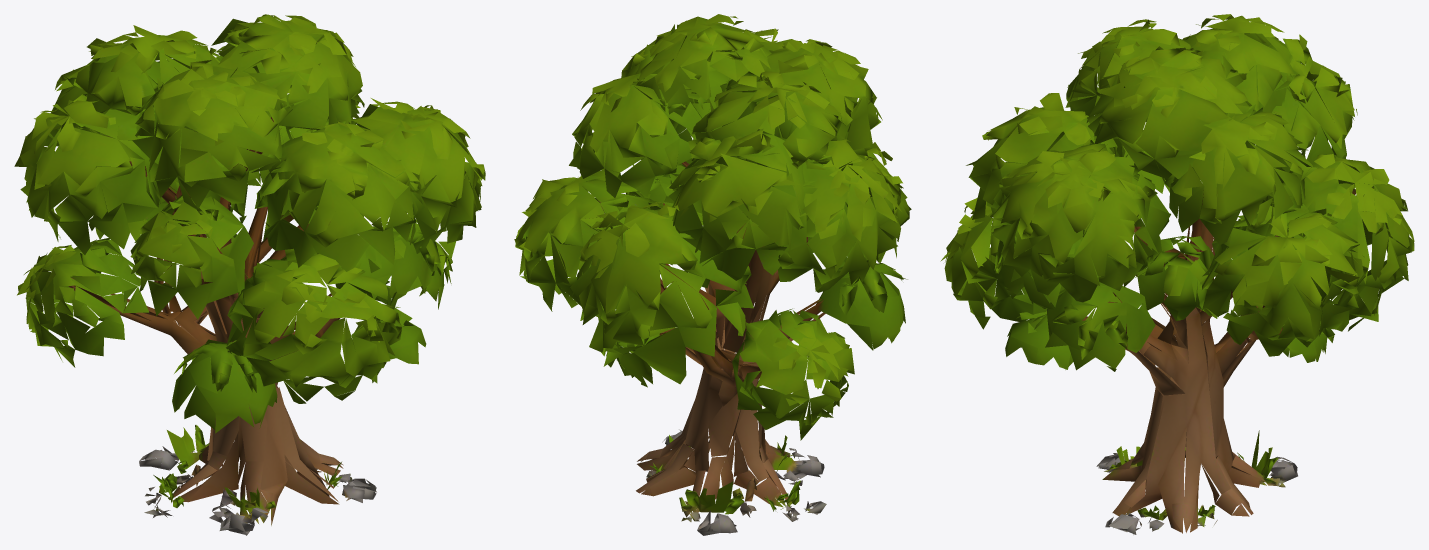
The model's file is tree-lod.glb.
3 renders of one model, left to right at view 1: azimuth 30°, elevation 25°; view 2: azimuth 150°, elevation 25°; view 3: azimuth 270°, elevation 25°, orthographic. The views are drawn at different scales.
Parts seen in each view (by area): view 1: distant-tree-lod; view 2: distant-tree-lod; view 3: distant-tree-lod.
Boxes of the visible parts, bbox=[...] form: distant-tree-lod: bbox=[14, 14, 485, 535]; distant-tree-lod: bbox=[514, 14, 911, 535]; distant-tree-lod: bbox=[940, 14, 1414, 534].
Bounding box in the file's own units: 3.09 × 3.86 × 3.63.
1 material, 1 textured.
